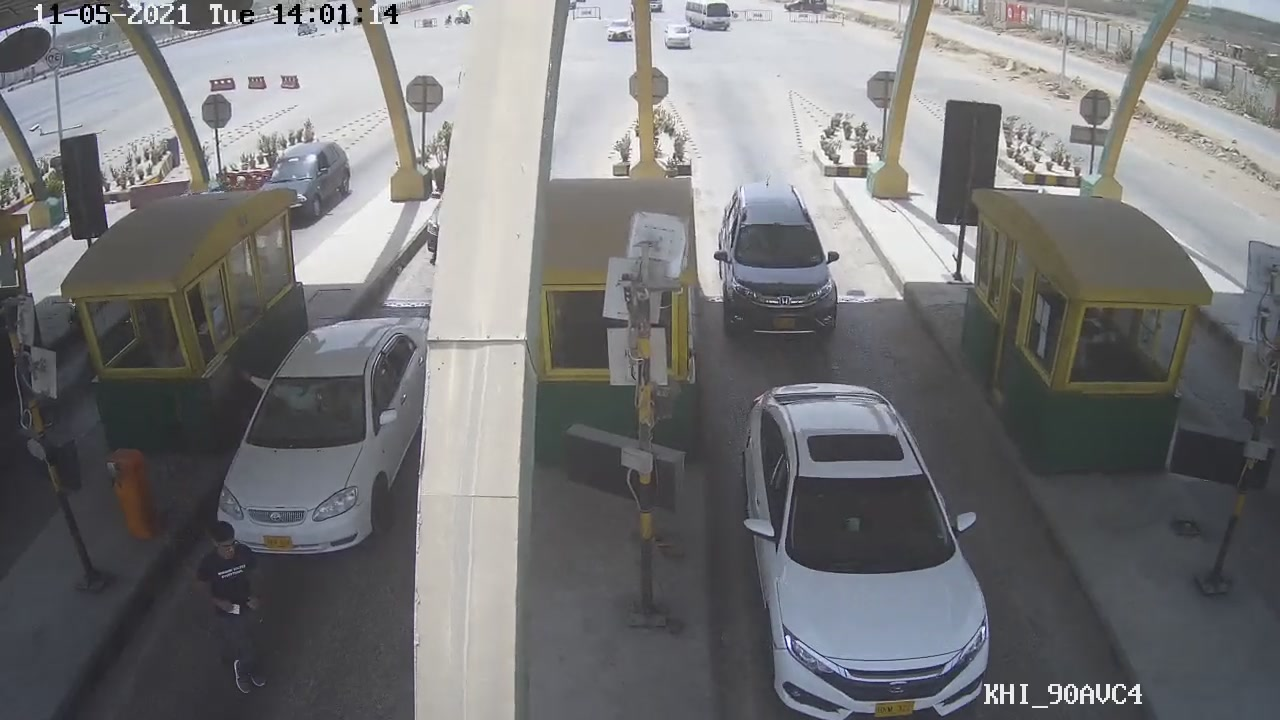F1: (707, 172, 860, 354)
